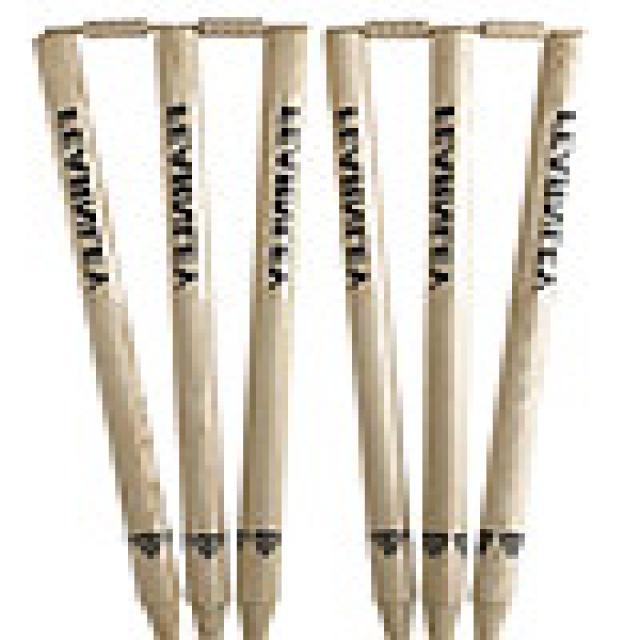stump: (28, 18, 311, 636), (320, 14, 588, 638)
